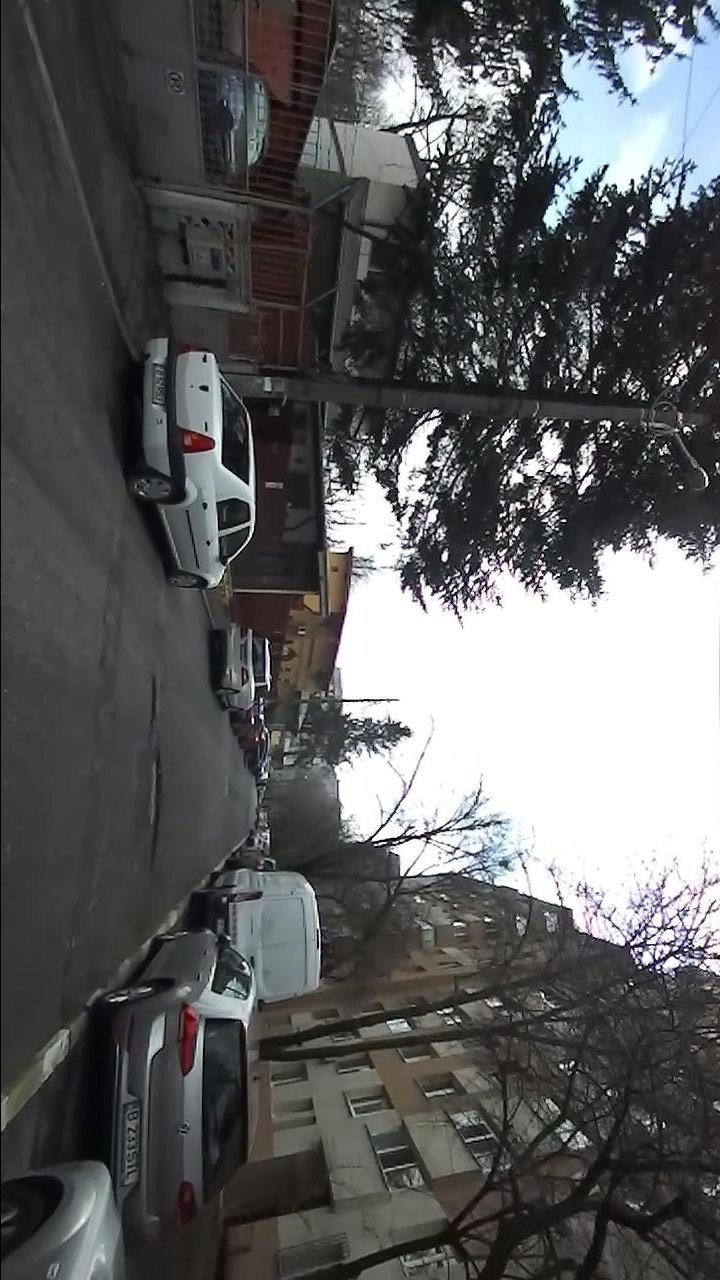pothole: (143, 749, 164, 874), (147, 673, 160, 734)
